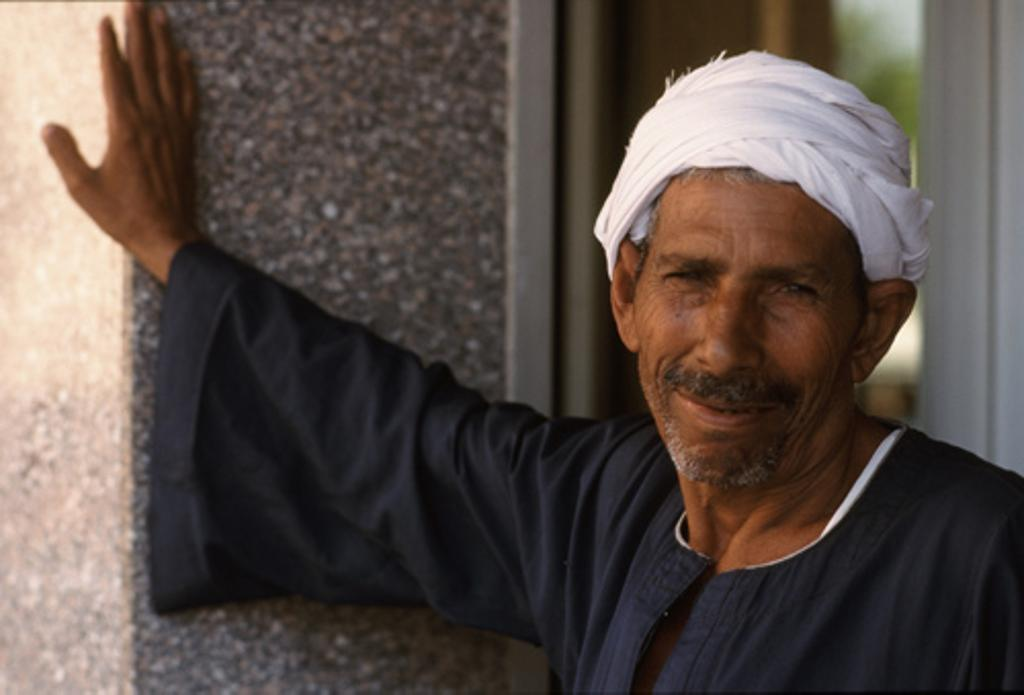face: (648, 160, 856, 462)
